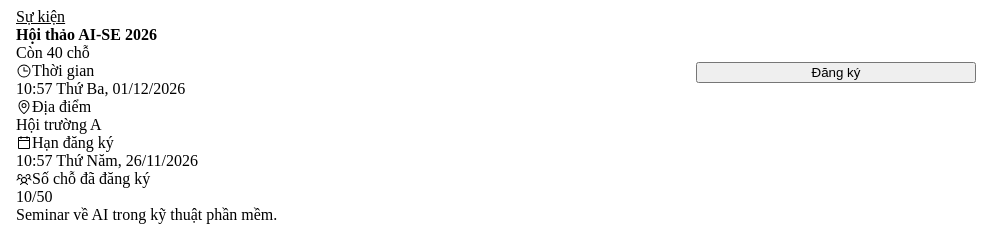
Test: đăng ký lỗi 409 already_registered: hiện thông báo, tải lại sự kiện, không báo thành công
Click the button "Đăng ký".
click(836, 72)  # box [696, 62, 976, 83]
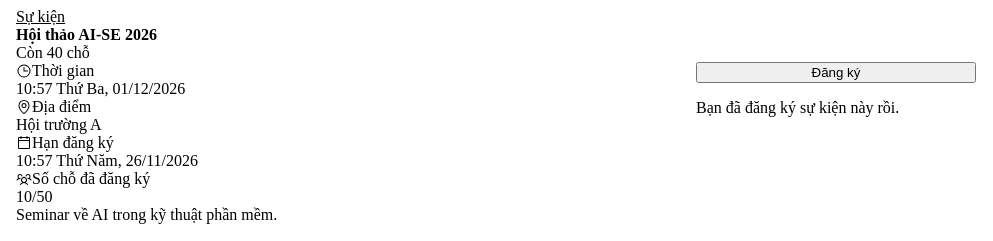
expect the text "Bạn đã đăng ký sự kiện này rồi." is shown: met, box [696, 99, 899, 116]
